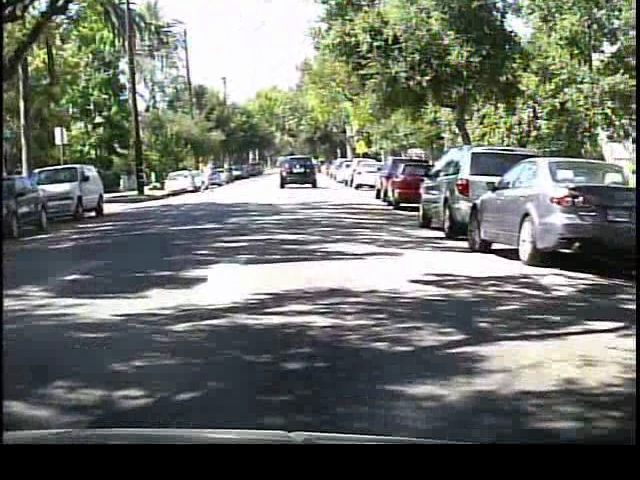person: (197, 158, 217, 197)
